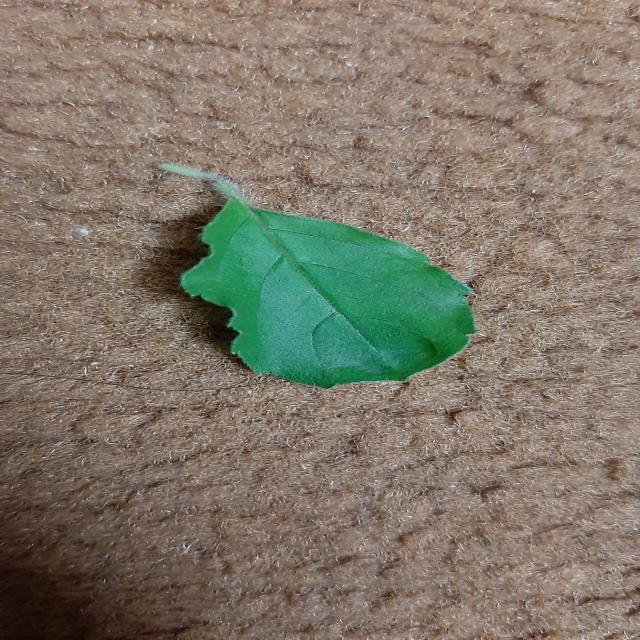tulsi: (160, 164, 474, 388)
